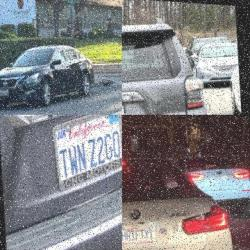LicensePlate: (54, 114, 122, 189), (122, 220, 159, 245), (1, 88, 11, 95)
